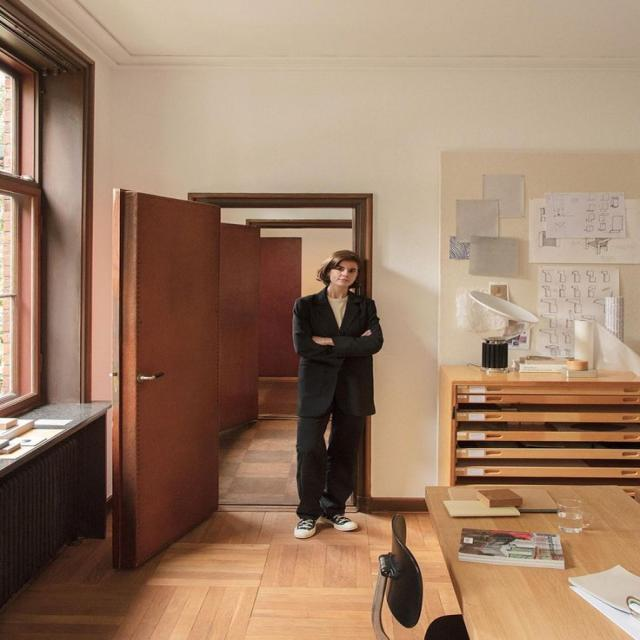door: (110, 188, 220, 568)
obstacle: (424, 482, 639, 638), (438, 364, 639, 487), (370, 513, 469, 639)
person: (291, 250, 384, 538)
